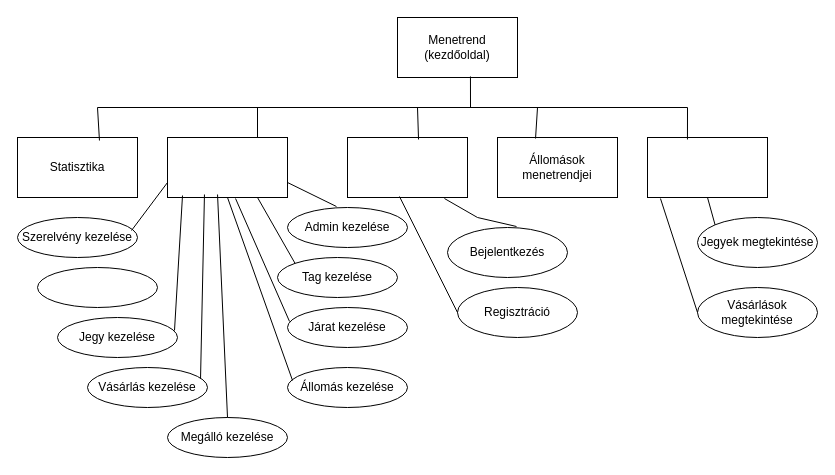
Some shapes in this 835 by 475 pixel diagram are drawn without their labels. Here are the shapes that lost their labels. From the top down, the centre of each, then its label:
At (227,167): "Admin felület".
At (407,167): "Bejelentkezés/ Regisztráció".
At (707,167): "Profil".
At (97,287): "Kedvezmény kezelése".
